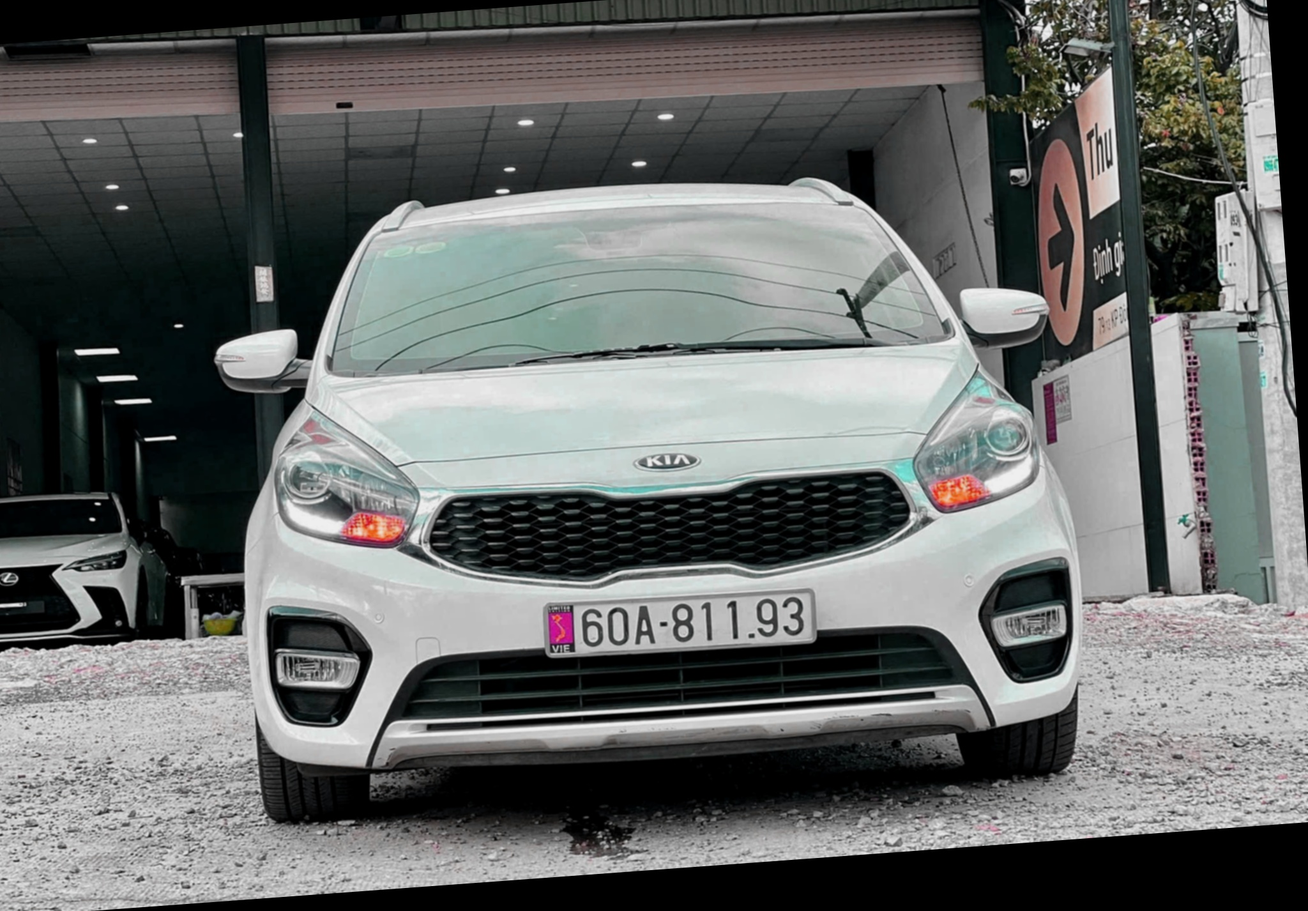Bien-so: (601, 645, 883, 729)
